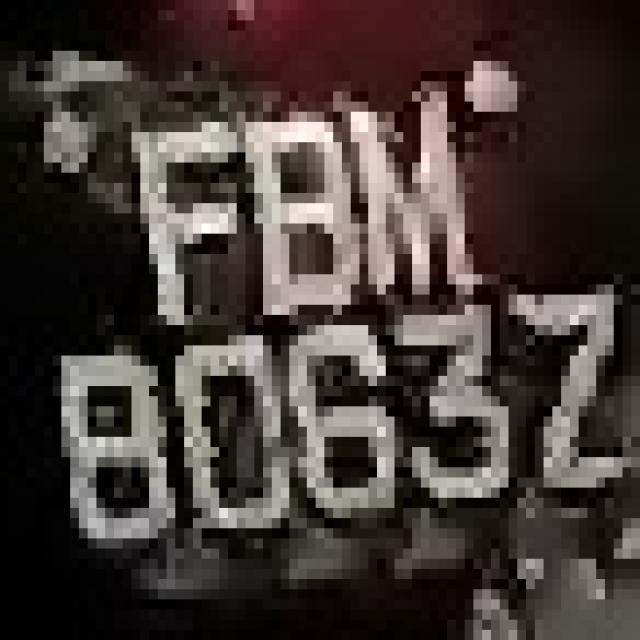0: (166, 305, 307, 538)
3: (368, 295, 509, 518)
6: (263, 305, 403, 538)
8: (35, 335, 175, 559)
B: (219, 112, 360, 335)
F: (96, 92, 228, 346)
M: (316, 61, 491, 305)
Z: (482, 264, 631, 528)
